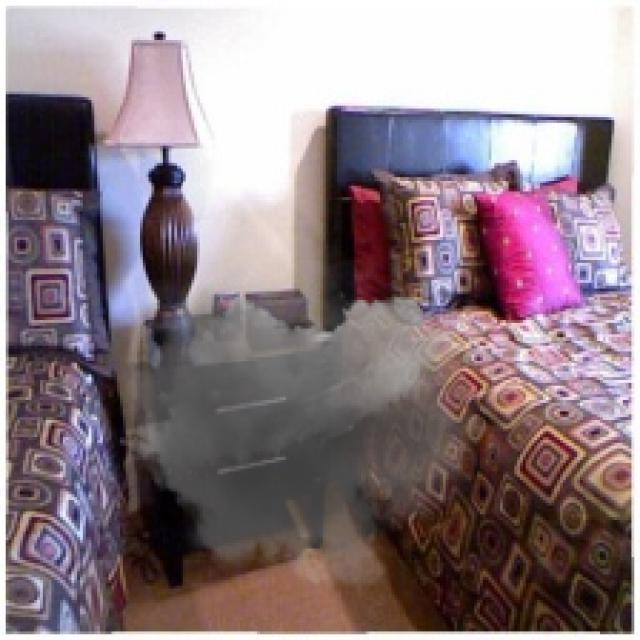Smoke: (106, 217, 480, 606)
